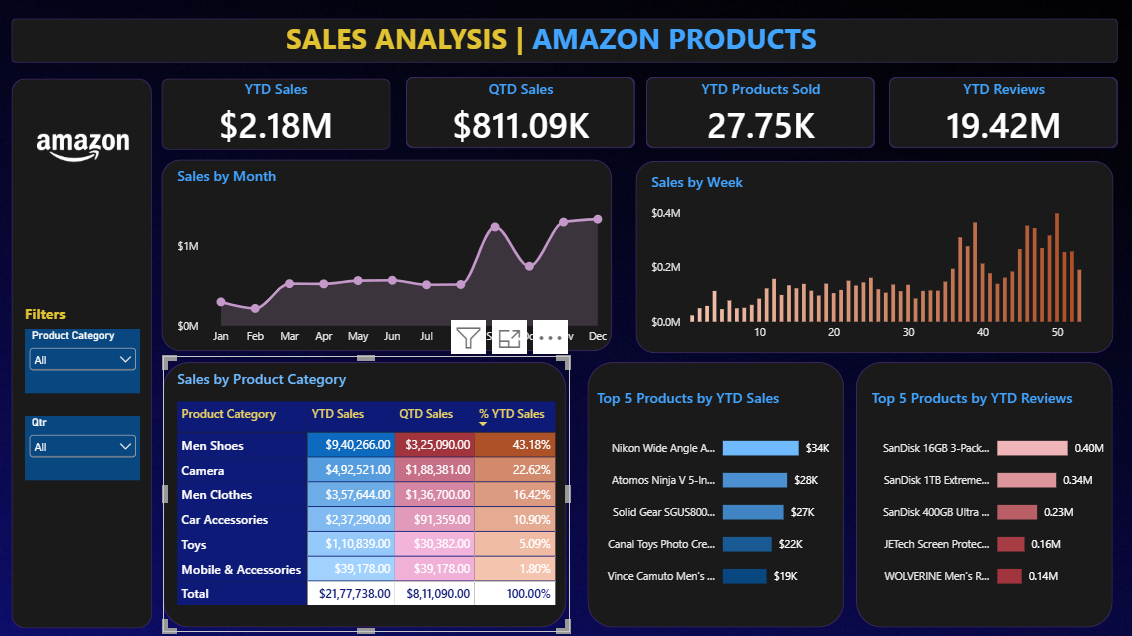

This screenshot's page, from the dashboard's own definition file:
{"tool":"powerbi","page":{"name":"Page 1","canvas":[1920,1080],"ordinal":0},"visuals":[{"type":"shape","box":[334,197.9,1250,50],"z":0},{"type":"shape","box":[334.3,265.7,158.6,621.4],"z":1000},{"type":"shape","box":[503.7,266.9,258.9,80.6],"z":2000},{"type":"textbox","box":[644.3,198.6,627.7,51.1],"z":3000},{"type":"cardVisual","title":"YTD Sales","fields":{"Data":["Amazon_Data.YTD Sales"]},"box":[519.8,266.3,225.4,80.4],"z":4000},{"type":"shape","box":[780.1,264.8,258.9,80.6],"z":5000},{"type":"cardVisual","title":"YTD Sales","fields":{"Data":["Amazon_Data.QTD Sales"]},"box":[780.1,264.8,258.6,80.4],"z":6000},{"type":"shape","box":[1325.2,264.8,258.9,80.6],"z":7000},{"type":"shape","box":[503.7,357.4,509.3,216.7],"z":8000},{"type":"shape","box":[1051.3,264.8,258.9,80.6],"z":9000},{"type":"areaChart","title":"Sales by Month","fields":{"Category":["Date Table.Month Name"],"Y":["Sum(Amazon_Data.Price(Dollar))"]},"box":[504.3,350,522.9,235.7],"z":10000},{"type":"cardVisual","title":"YTD Sales","fields":{"Data":["Amazon_Data.YTD Products Sold"]},"box":[1050.9,264.8,258.6,80.4],"z":11000},{"type":"shape","box":[1038.6,358.6,540,217.1],"z":12000},{"type":"cardVisual","title":"YTD Sales","fields":{"Data":["Amazon_Data.YTD Review"]},"box":[1325.2,264.8,258.6,80.4],"z":13000},{"type":"columnChart","title":"Sales by Week","fields":{"Category":["Date Table.Week"],"Y":["Sum(Amazon_Data.Price(Dollar))"]},"box":[1040,357.1,540,224.3],"z":14000},{"type":"shape","box":[504.3,585.7,455.7,300],"z":15000},{"type":"pivotTable","title":"Sales by Product Category","fields":{"Rows":["Amazon_Data.Product Category"],"Values":["Amazon_Data.YTD Sales1","Amazon_Data.QTD Sales","Amazon_Data.YTD Sales"]},"box":[504.3,580,460,311.4],"z":16000},{"type":"shape","box":[984.3,585.7,290,300],"z":17000},{"type":"clusteredBarChart","title":"Top 5 Products by YTD Sales","fields":{"Category":["Amazon_Data.Product Description"],"Y":["Amazon_Data.YTD Sales"]},"box":[980,601.4,294.3,267.1],"z":18000},{"type":"shape","box":[1288.6,585.7,290,300],"z":19000},{"type":"slicer","fields":{"Values":["Amazon_Data.Product Category"]},"box":[348.6,548.6,130,72.9],"z":20000},{"type":"clusteredBarChart","title":"Top 5 Products by YTD Reviews","fields":{"Category":["Amazon_Data.Product Description"],"Y":["Amazon_Data.YTD Reviews"]},"box":[1290,601.4,294.3,267.1],"z":21000},{"type":"slicer","fields":{"Values":["Date Table.Qtr"]},"box":[348.6,647.1,130,72.9],"z":22000},{"type":"image","box":[362.9,318.6,104.3,51.4],"z":22001},{"type":"textbox","box":[348.6,520,54.3,28.6],"z":22002}]}

Visuals, with their boxes in screenshot pixels (x1, y1, x2, y2), scaled from the page's 1920x1080 canvas onto the 1132x636 screenshot:
shape: [left=197, top=117, right=934, bottom=146]
shape: [left=197, top=156, right=291, bottom=522]
shape: [left=297, top=157, right=450, bottom=205]
textbox: [left=380, top=117, right=750, bottom=147]
"YTD Sales" cardVisual: [left=306, top=157, right=439, bottom=204]
shape: [left=460, top=156, right=613, bottom=203]
"YTD Sales" cardVisual: [left=460, top=156, right=612, bottom=203]
shape: [left=781, top=156, right=934, bottom=203]
shape: [left=297, top=210, right=597, bottom=338]
shape: [left=620, top=156, right=772, bottom=203]
"Sales by Month" areaChart: [left=297, top=206, right=606, bottom=345]
"YTD Sales" cardVisual: [left=620, top=156, right=772, bottom=203]
shape: [left=612, top=211, right=931, bottom=339]
"YTD Sales" cardVisual: [left=781, top=156, right=934, bottom=203]
"Sales by Week" columnChart: [left=613, top=210, right=932, bottom=342]
shape: [left=297, top=345, right=566, bottom=522]
"Sales by Product Category" pivotTable: [left=297, top=342, right=569, bottom=525]
shape: [left=580, top=345, right=751, bottom=522]
"Top 5 Products by YTD Sales" clusteredBarChart: [left=578, top=354, right=751, bottom=511]
shape: [left=760, top=345, right=931, bottom=522]
slicer - Amazon_Data.Product Category: [left=206, top=323, right=282, bottom=366]
"Top 5 Products by YTD Reviews" clusteredBarChart: [left=761, top=354, right=934, bottom=511]
slicer - Date Table.Qtr: [left=206, top=381, right=282, bottom=424]
image: [left=214, top=188, right=275, bottom=218]
textbox: [left=206, top=306, right=238, bottom=323]
